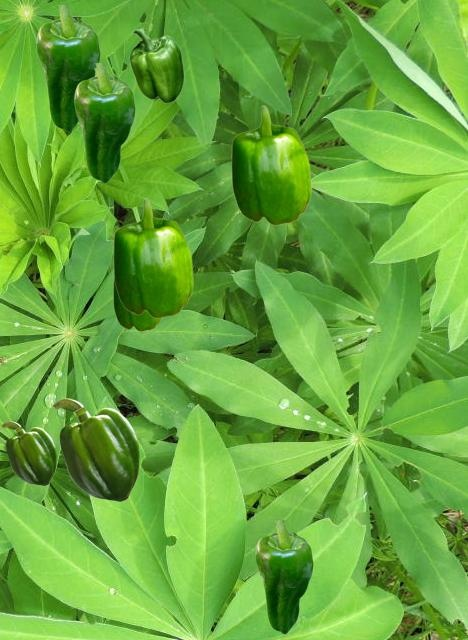bell_pepper: (113, 198, 192, 317), (231, 105, 310, 224), (52, 398, 138, 500), (36, 5, 99, 131), (74, 63, 134, 182), (255, 520, 312, 633), (129, 29, 183, 102), (1, 421, 55, 484), (113, 279, 162, 330), (74, 68, 95, 175)
